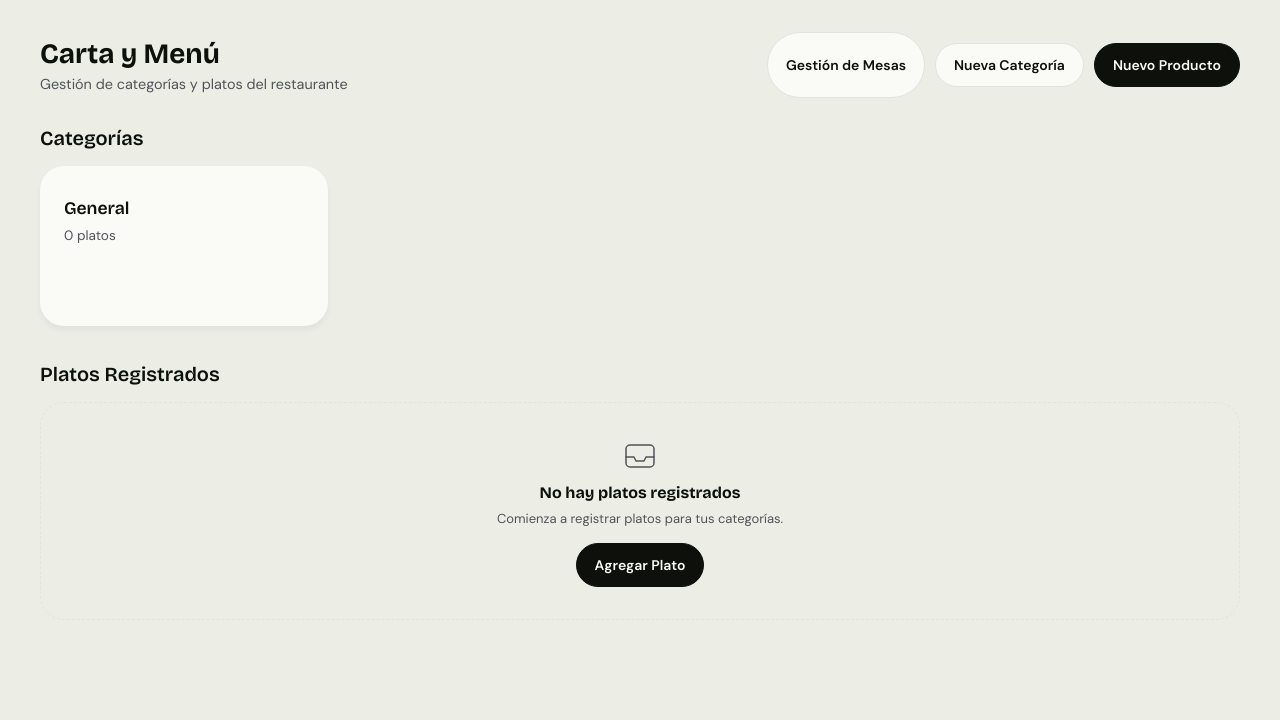
Test: Bloque 3: Menu Admin Real (Tests Rojo) › HALLAZGO 2: Crear categoría real dispara mutation createCategory con name y sortOrder y refresca la lista
Check: the heading "General" is shown, box [64, 198, 130, 219]
Step 1. Click the button "Nueva Categoría" → click(1009, 65), box [935, 43, 1084, 87]
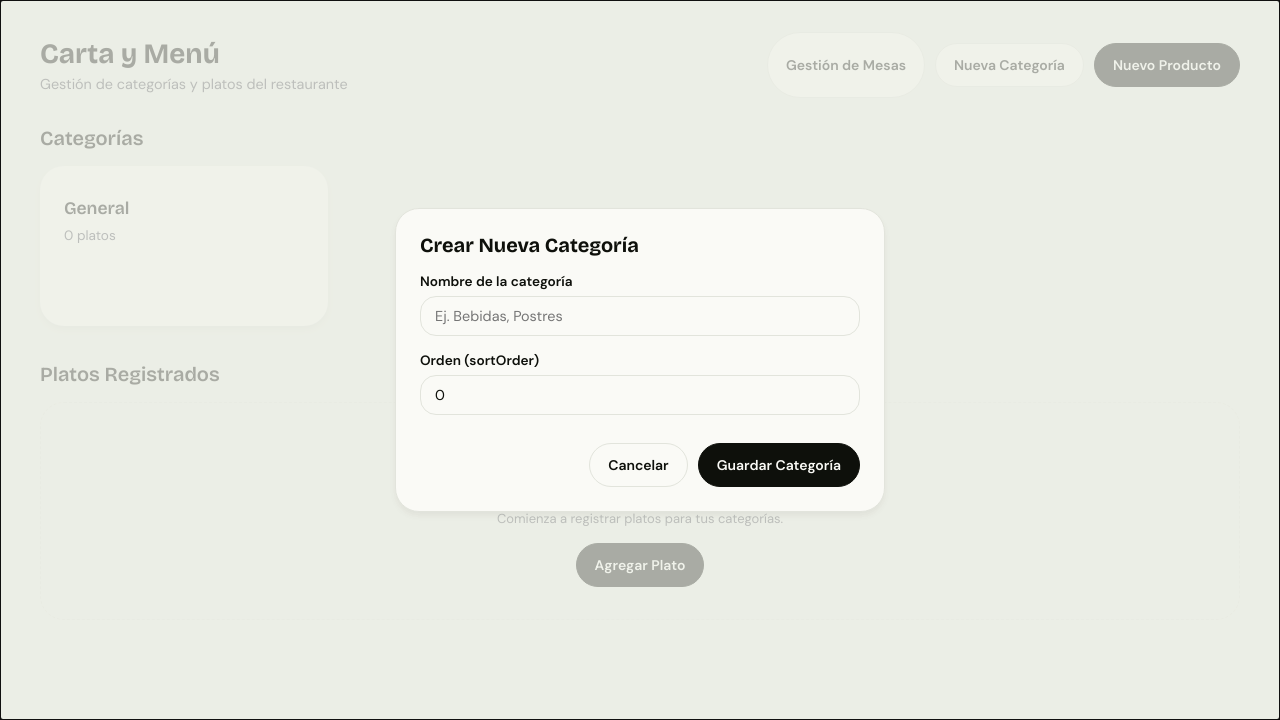
Step 2. Type "Bebidas Calientes" into the field labelled "Nombre de la categoría" → (640, 316), box [420, 296, 860, 336]
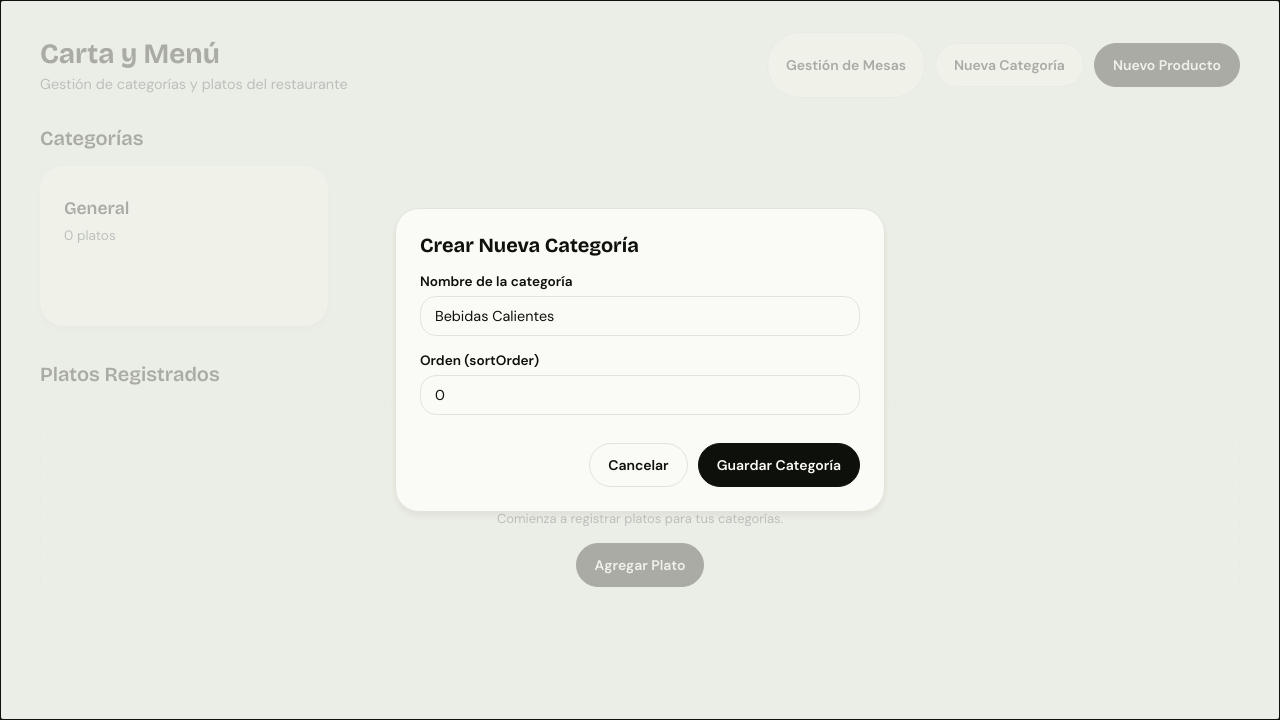
Step 3. Click the button "Guardar Categoría" → click(779, 465), box [698, 443, 860, 487]
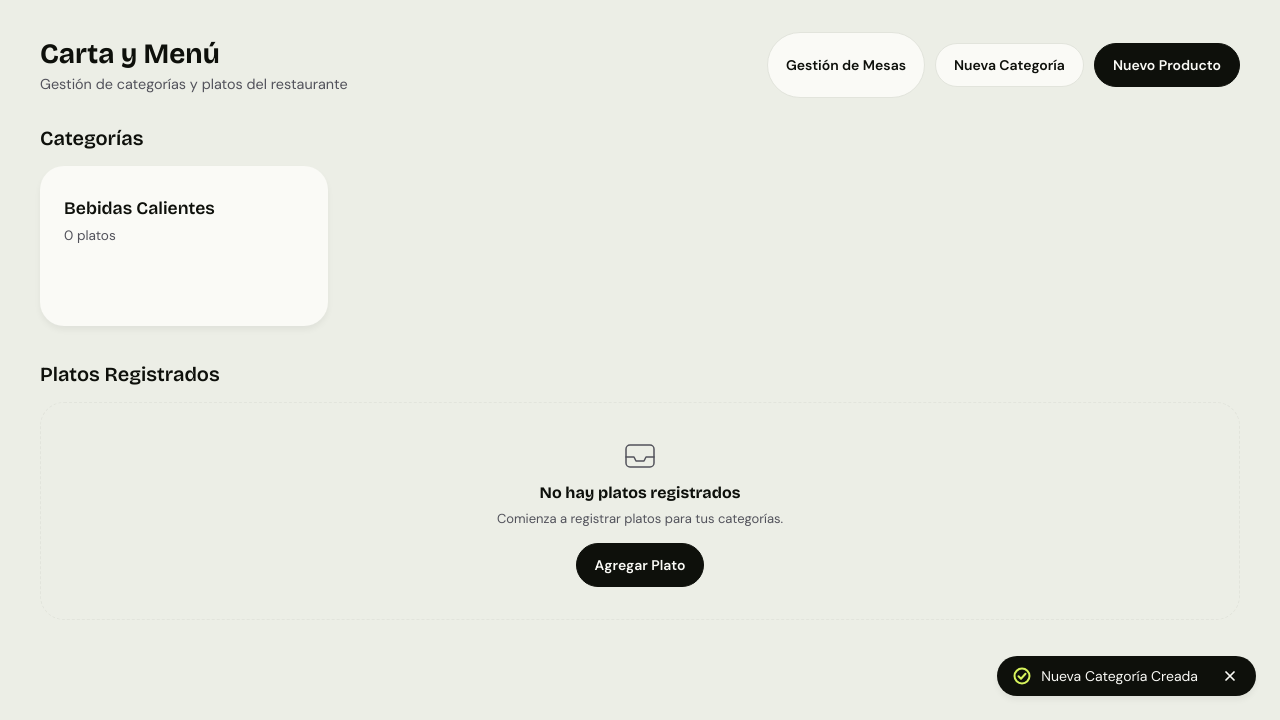
Check: the heading "Bebidas Calientes" is shown, box [64, 198, 215, 219]
Check: the text "Nueva Categoría Creada" is shown, box [1041, 667, 1198, 685]
